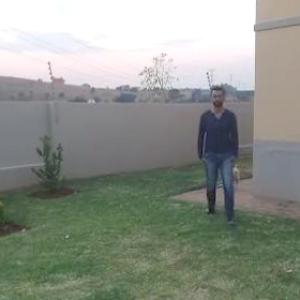follow: (200, 81, 245, 225)
